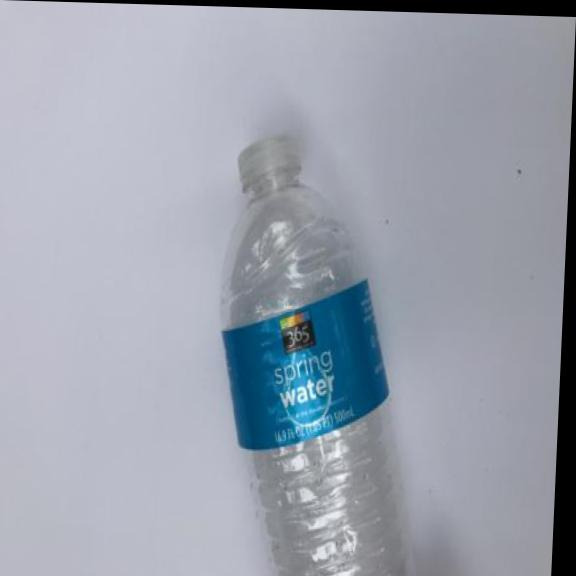Plastik: (200, 123, 444, 576)
